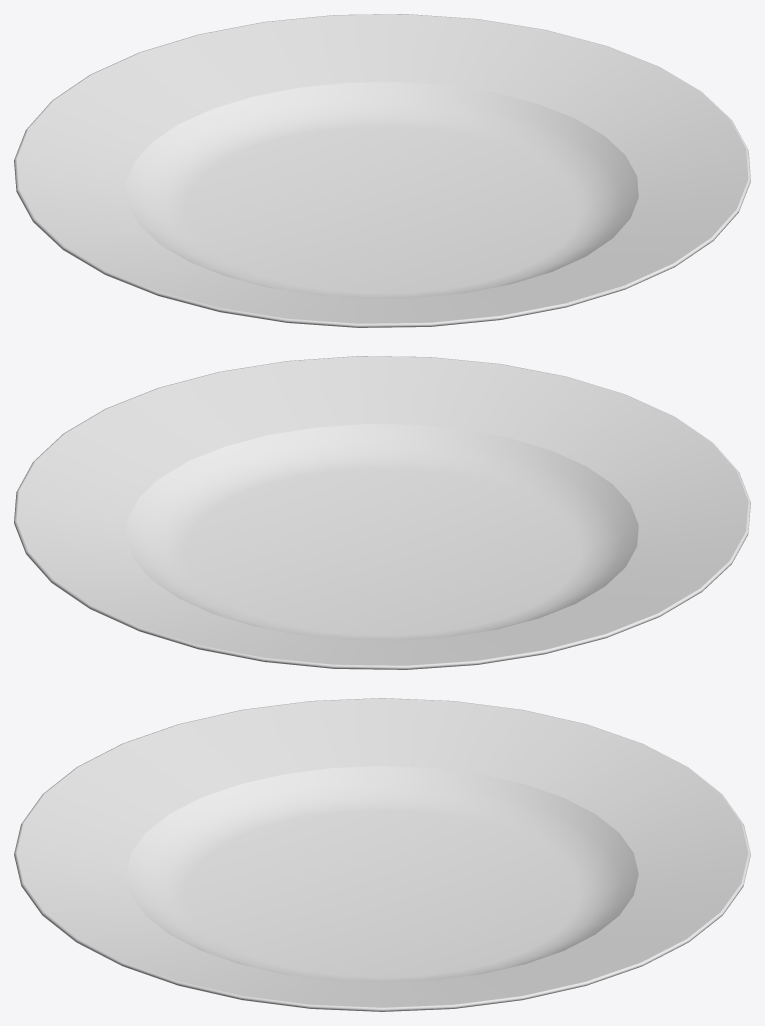
File: assietteplate.glb
3 renders of one model, top to bottom at view 1: azimuth 30°, elevation 25°; view 2: azimuth 150°, elevation 25°; view 3: azimuth 270°, elevation 25°, orthographic.
Visible parts, largest first — view 1: asiete; view 2: asiete; view 3: asiete.
Part boxes in pixels (box(x1,y1,x2,y2)): asiete: box(14, 14, 750, 327); asiete: box(14, 356, 750, 669); asiete: box(14, 698, 750, 1011).
Bounding box in the file's own units: 563 × 37.74 × 563.
Materials: 1 (1 with a texture image).
